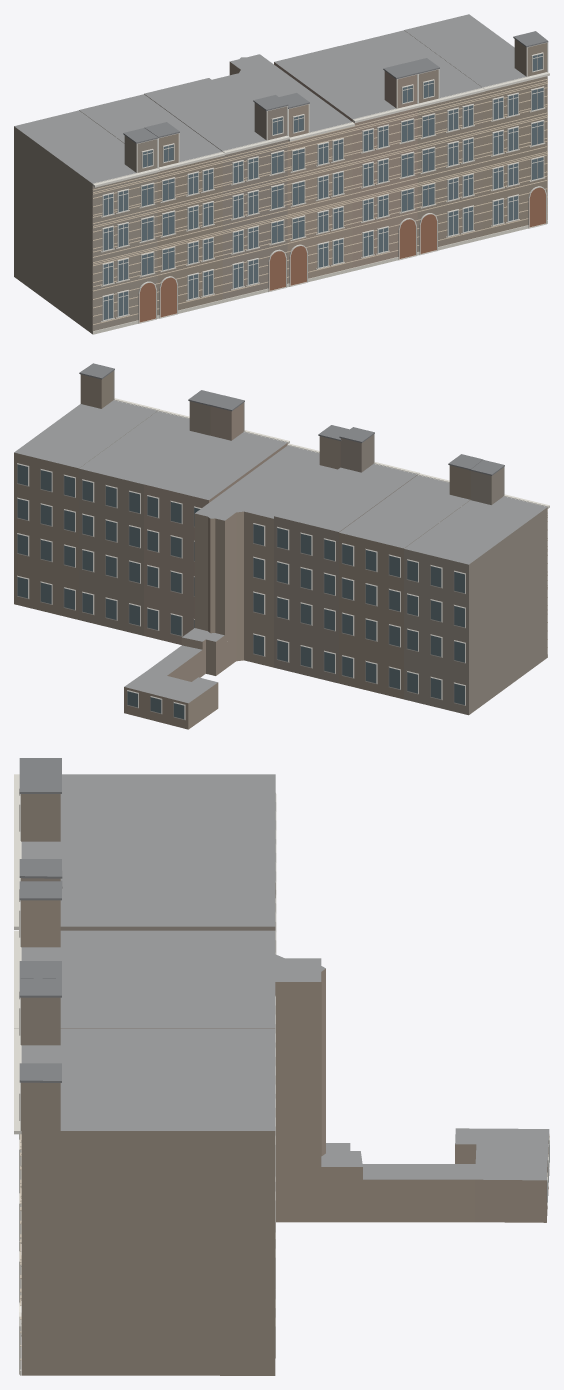
File: chunk-face-sarphati-163-213-r1.glb
3 renders of one model, top to bottom at view 1: azimuth 30°, elevation 25°; view 2: azimuth 150°, elevation 25°; view 3: azimuth 270°, elevation 25°, orthographic. The views are drawn at different scales.
Visible parts, largest first — view 1: face-sarphati-163-213-r1; view 2: face-sarphati-163-213-r1; view 3: face-sarphati-163-213-r1.
Boxes of the visible parts, box(x1,y1,x2,y2) form: face-sarphati-163-213-r1: box(14, 14, 549, 334); face-sarphati-163-213-r1: box(14, 363, 549, 729); face-sarphati-163-213-r1: box(14, 758, 549, 1375).
Size of the model in its own units: 45.32 by 17.38 by 28.59.
